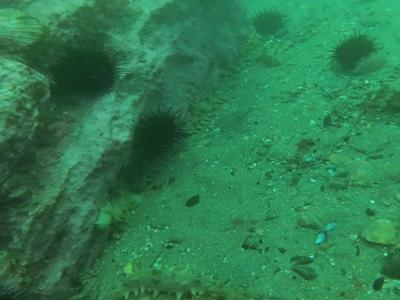holothurian: (116, 261, 235, 297), (92, 193, 146, 229), (182, 95, 222, 136)
scallop: (3, 6, 47, 54)
urchin: (56, 39, 125, 99), (129, 104, 187, 158), (328, 27, 374, 70), (251, 8, 287, 34)
